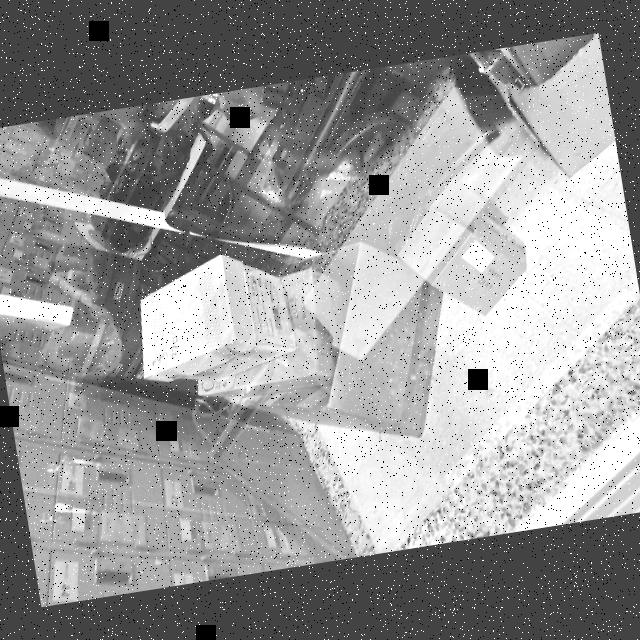cardboard_box: (242, 223, 468, 462), (128, 245, 302, 402), (393, 170, 543, 332), (200, 255, 360, 406), (476, 33, 620, 190)
